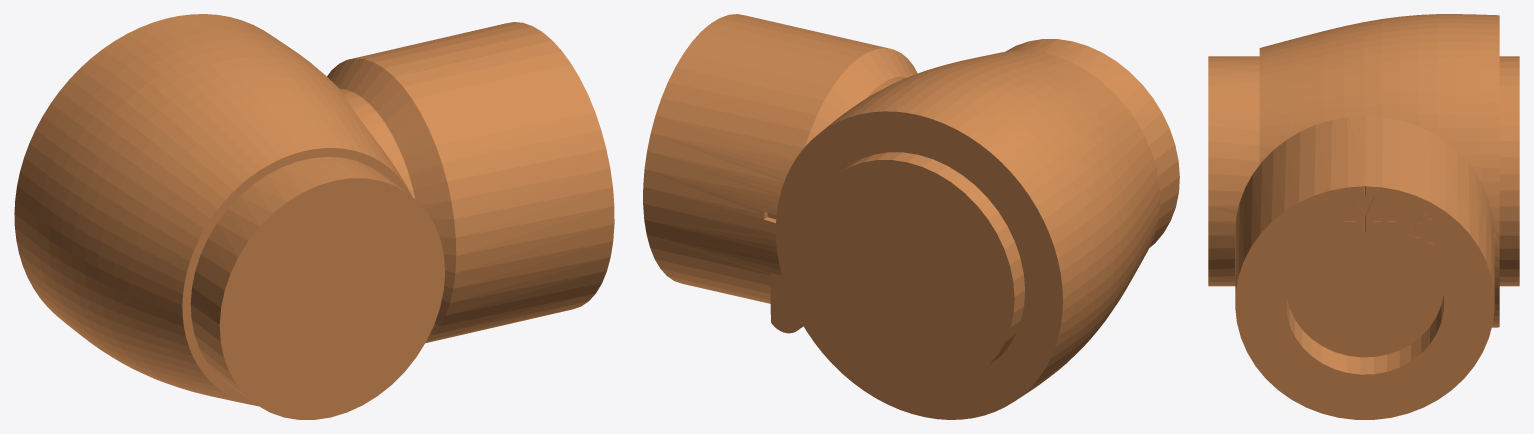
The picture shows the model from 3 angles, left to right: view 1: azimuth 30°, elevation 25°; view 2: azimuth 150°, elevation 25°; view 3: azimuth 270°, elevation 25°; orthographic projection. The views are drawn at different scales.
Parts seen in each view (by area): view 1: Link_5; view 2: Link_5; view 3: Link_5.
Part boxes in pixels (box(x1,y1,x2,y2)): Link_5: box(14, 14, 614, 419); Link_5: box(643, 14, 1179, 419); Link_5: box(1208, 14, 1519, 419).
Bounding box in the file's own units: 0.1166 × 0.0785 × 0.0794.
